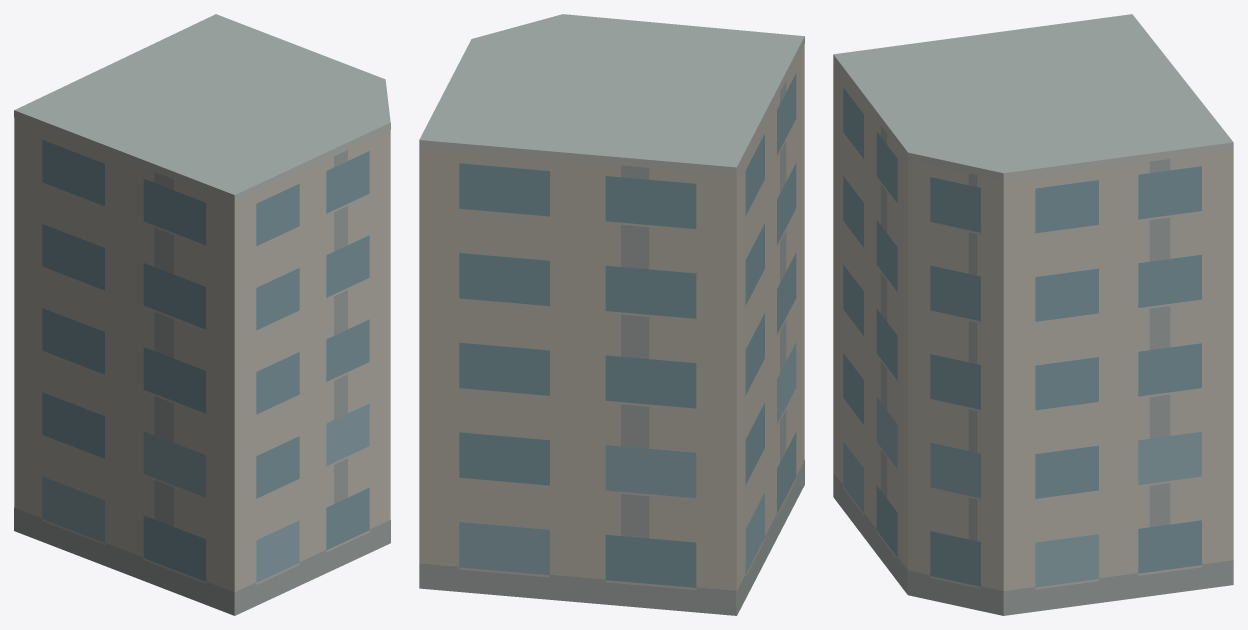
The model's file is survey-upis-32641671.glb.
The picture shows the model from 3 angles, left to right: view 1: azimuth 30°, elevation 25°; view 2: azimuth 150°, elevation 25°; view 3: azimuth 270°, elevation 25°; orthographic projection. The views are drawn at different scales.
Parts seen in each view (by area): view 1: survey-upis-32641671.tmp; view 2: survey-upis-32641671.tmp; view 3: survey-upis-32641671.tmp.
Boxes of the visible parts, x1=… form: survey-upis-32641671.tmp: x1=14, y1=14, x2=390, y2=615; survey-upis-32641671.tmp: x1=419, y1=14, x2=804, y2=615; survey-upis-32641671.tmp: x1=833, y1=14, x2=1233, y2=615.
Size of the model in its own units: 10.5 by 13.6 by 11.16.
